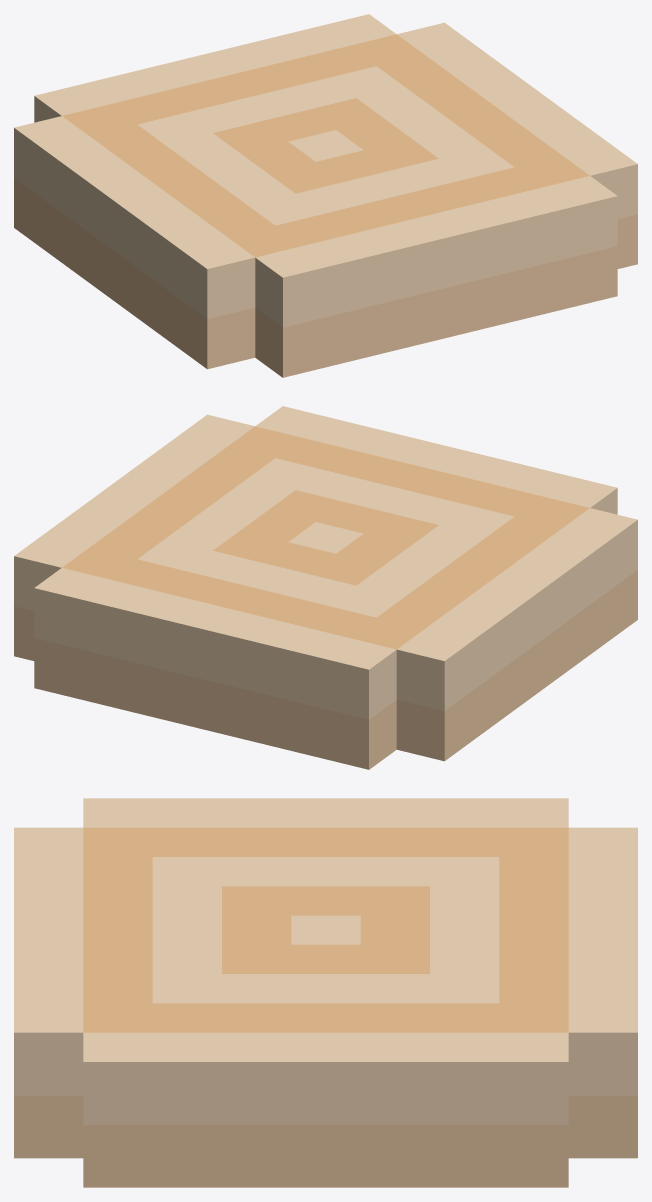
File: 6_On_Dish.obj
3 renders of one model, top to bottom at view 1: azimuth 30°, elevation 25°; view 2: azimuth 150°, elevation 25°; view 3: azimuth 270°, elevation 25°, orthographic. The views are drawn at different scales.
Size of the model in its own units: 0.9 by 0.2 by 0.9.
Materials: 1 (1 with a texture image).
